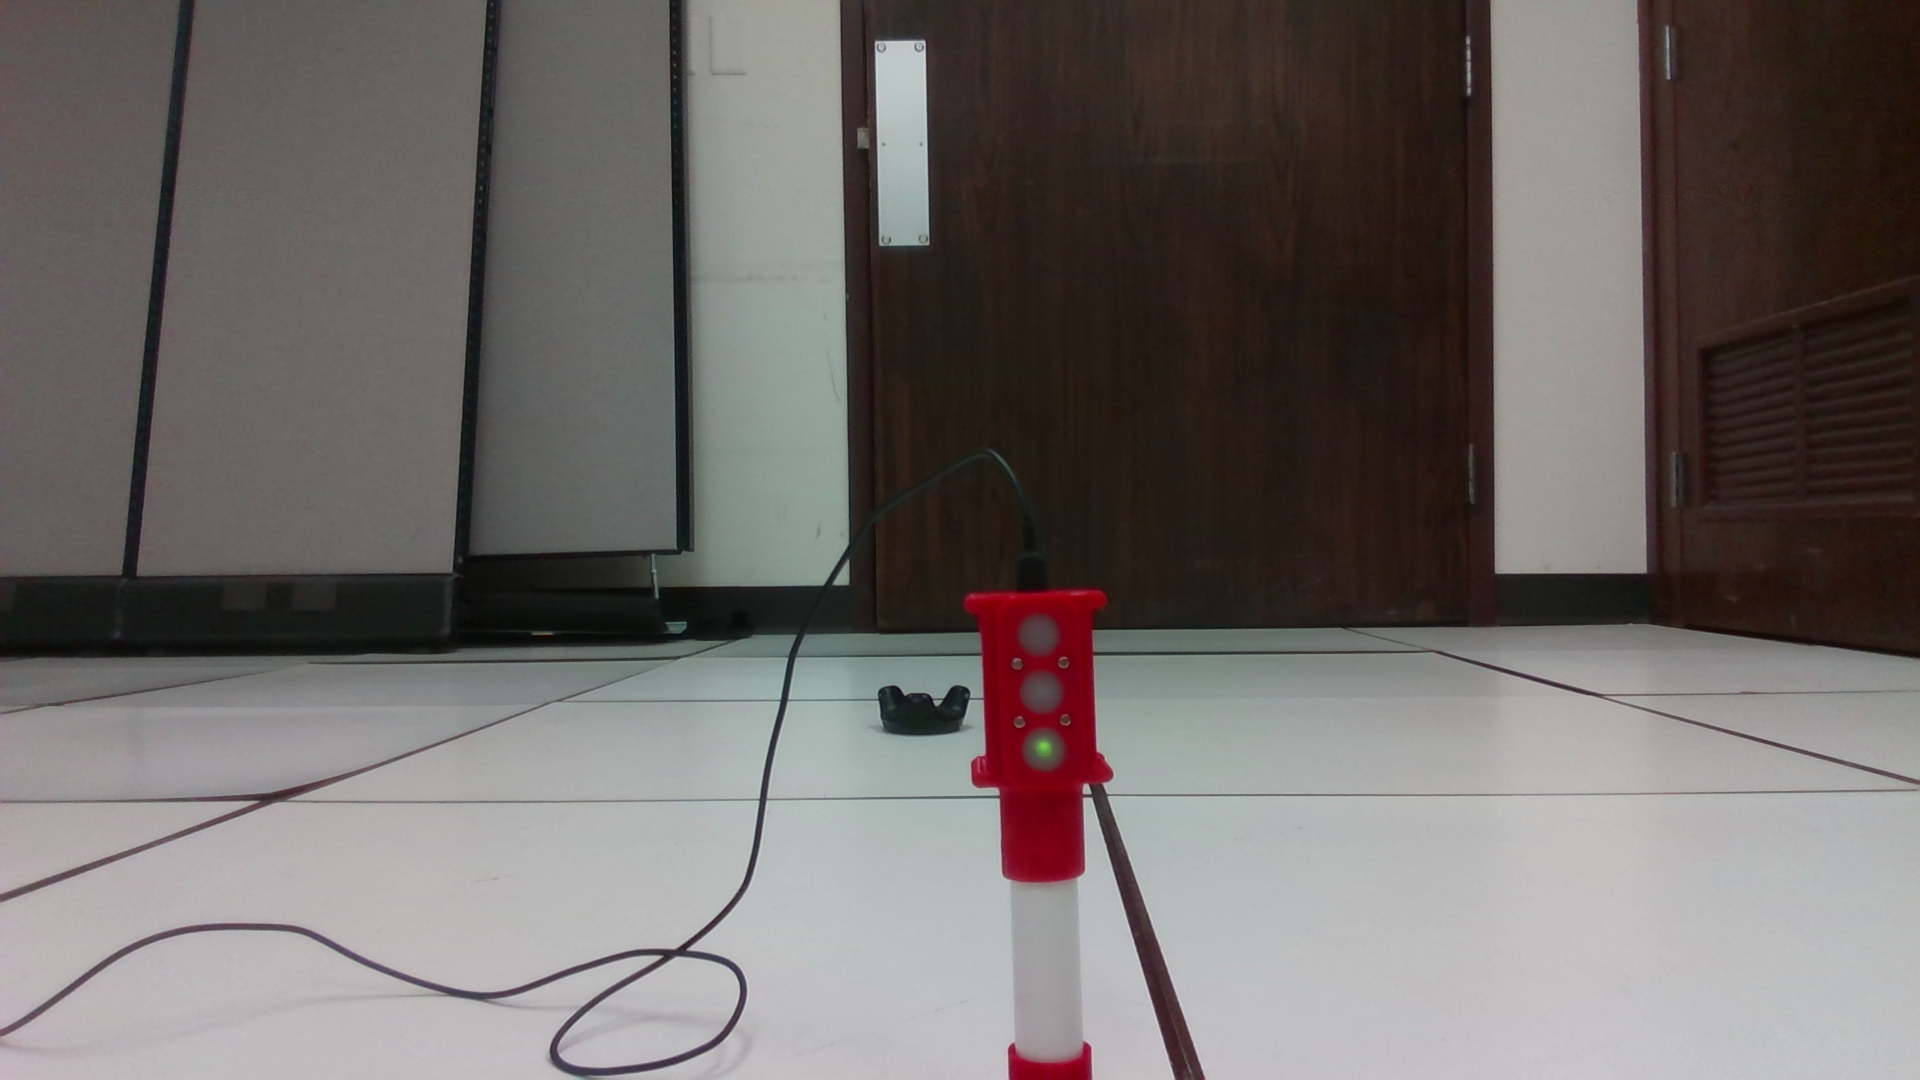stoplight: (959, 593, 1112, 887)
